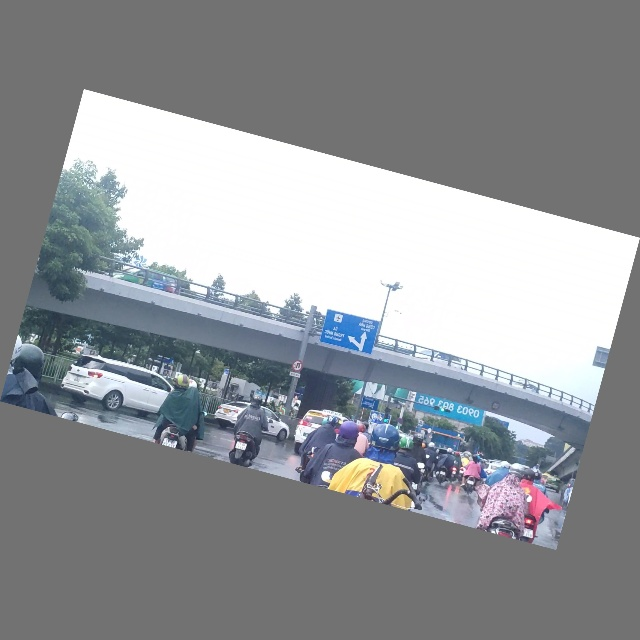P.124b1: (291, 359, 304, 374)
